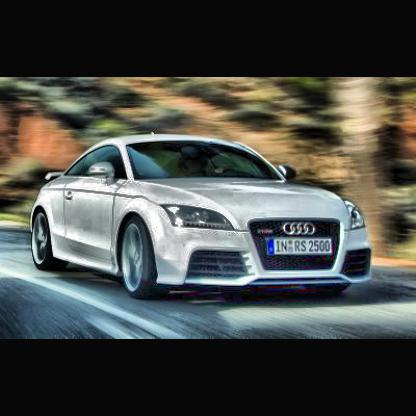Audi TT Hatchback 2011: (31, 134, 377, 295)
